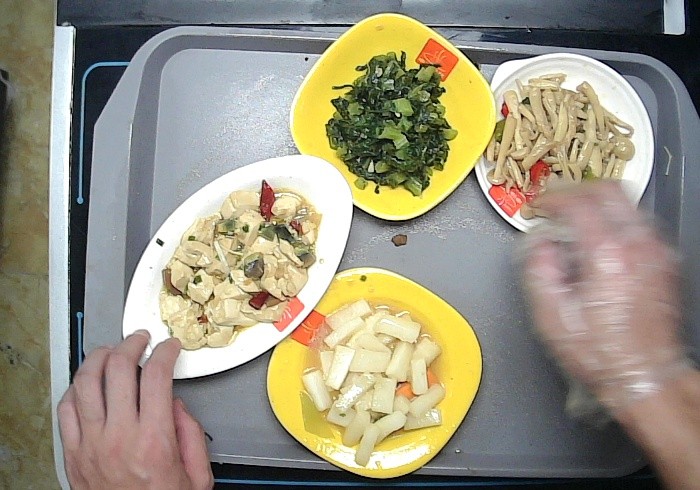SHKJ-Bao_Yu_Pan: (468, 48, 657, 242)
SHKJ-Huang_Se_Cai_Die: (288, 6, 500, 224)
SHKJ-Huang_Se_Si_Fang_Cai_Die: (263, 265, 484, 484)
SHKJ-Yu_Pan: (119, 152, 357, 388)
